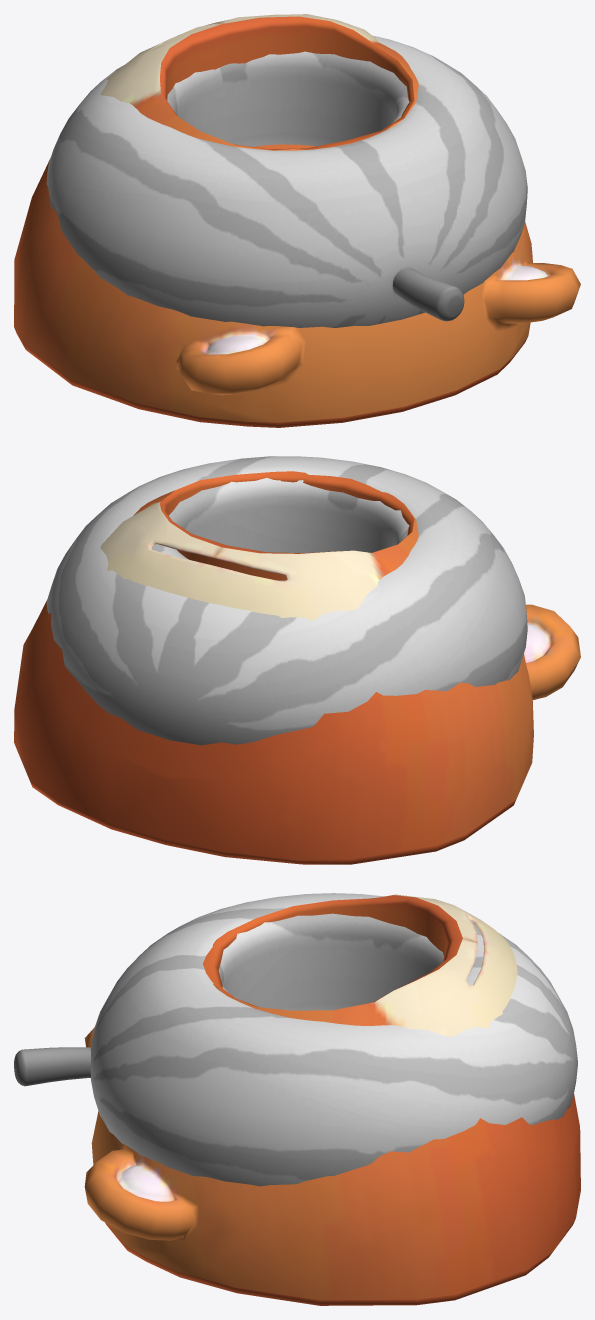
The model's file is Pin_Model_13.fbx.
3 renders of one model, top to bottom at view 1: azimuth 30°, elevation 25°; view 2: azimuth 150°, elevation 25°; view 3: azimuth 270°, elevation 25°, orthographic.
Visible parts, largest first — view 1: Pin_WaterMelon, pin_13; view 2: pin_13, Pin_WaterMelon; view 3: Pin_WaterMelon, pin_13.
Boxes of the visible parts, box(x1,y1,x2,y2) form: Pin_WaterMelon: box(46, 35, 527, 327); pin_13: box(14, 14, 580, 427); pin_13: box(14, 471, 580, 864); Pin_WaterMelon: box(46, 456, 527, 745); Pin_WaterMelon: box(14, 893, 577, 1186); pin_13: box(84, 894, 580, 1305).
Size of the model in its own units: 0.6355 by 0.3445 by 0.6754.
4 materials, 4 textured.
